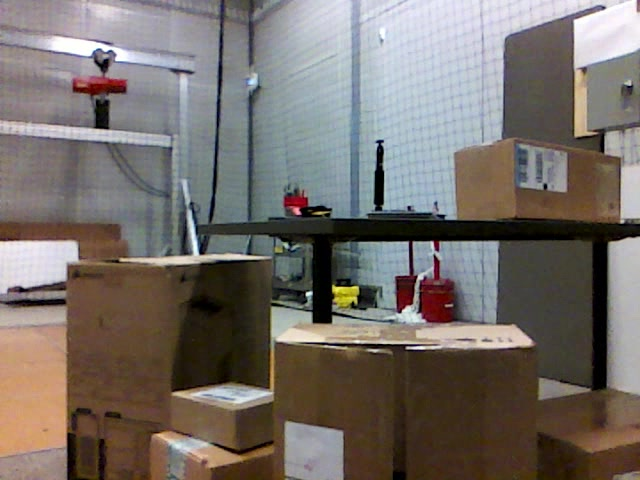box: (67, 256, 271, 480), (274, 322, 537, 480), (454, 138, 623, 221), (538, 388, 640, 472), (171, 382, 273, 451), (150, 431, 268, 480)
